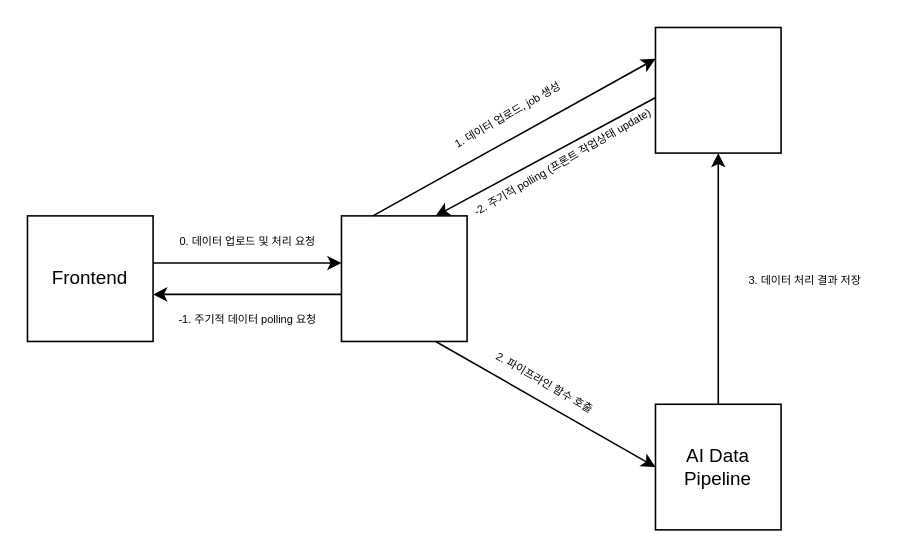
This 903x557 diagram has some shape labels left out. The box of each missing label's shape, as (x1, y1, x2, y2) in pixels:
DB (PostgreSQL): (654, 26, 781, 153)
FastAPI: (340, 214, 467, 341)
